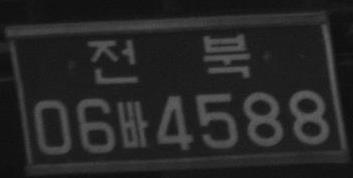0: (33, 99, 72, 154)
4: (156, 95, 193, 149)
5: (194, 92, 238, 150)
6: (75, 97, 115, 154)
8: (288, 89, 330, 145), (242, 90, 283, 147)
바: (117, 99, 148, 149)
전북_D: (88, 31, 252, 83)
